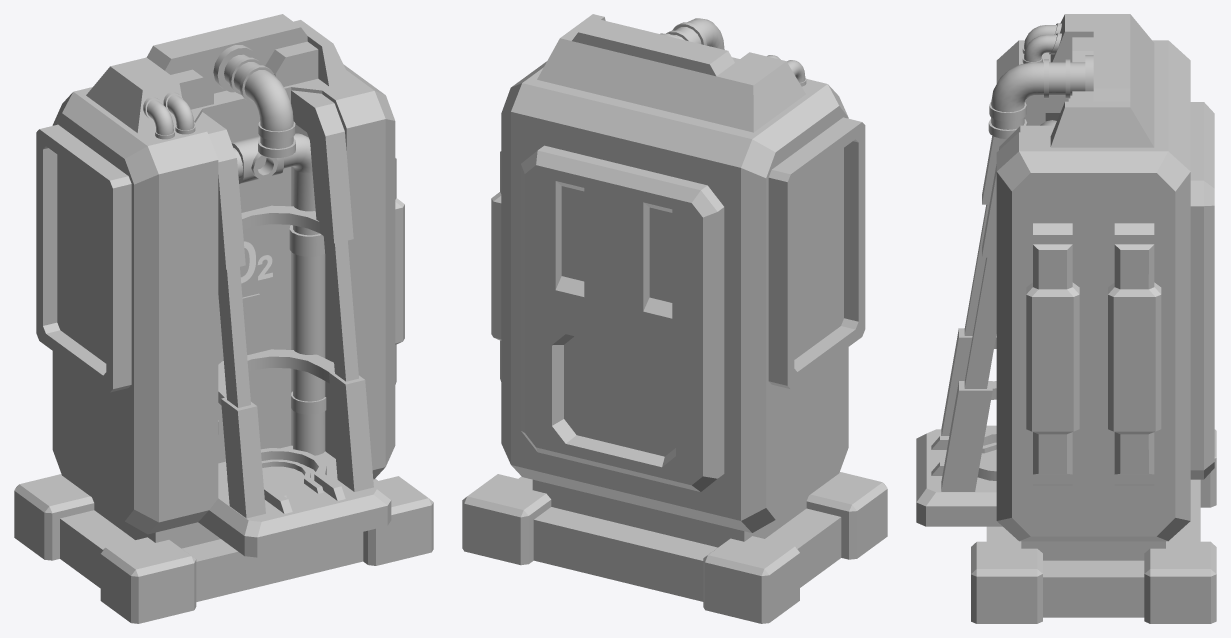
File: Life_support_system.fbx
The picture shows the model from 3 angles, left to right: view 1: azimuth 30°, elevation 25°; view 2: azimuth 150°, elevation 25°; view 3: azimuth 270°, elevation 25°; orthographic projection.
Visible parts, largest first — view 1: Life_support_system; view 2: Life_support_system; view 3: Life_support_system.
Boxes of the visible parts, x1,y1,x2,y2 form: Life_support_system: (14,14,433,623); Life_support_system: (462,14,887,623); Life_support_system: (916,14,1216,623).
Size of the model in its own units: 71.71 by 113 by 61.31.
